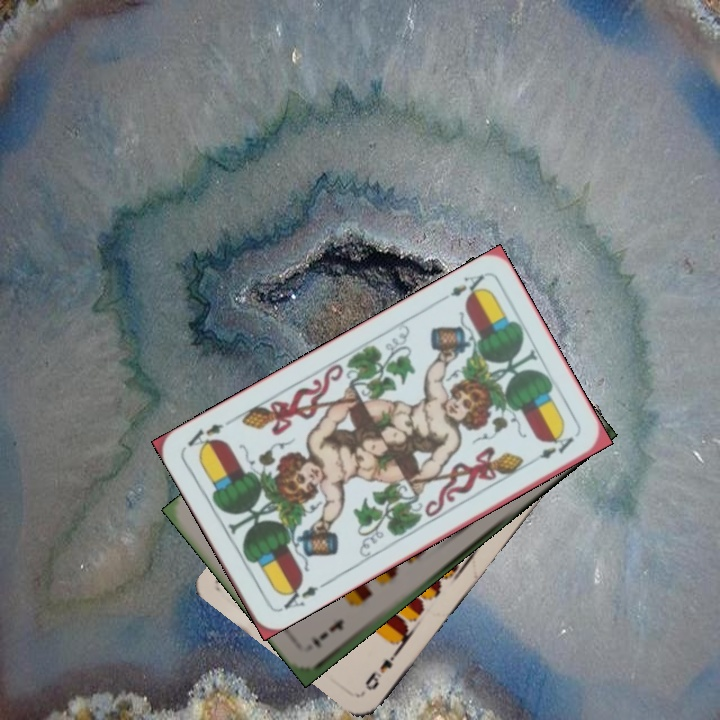E7: (309, 615, 346, 651)
E9: (360, 645, 402, 693)
EA: (434, 270, 489, 306), (275, 578, 321, 614)
